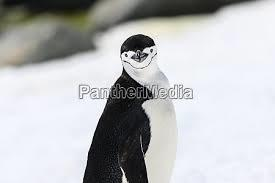chinstrap: (76, 30, 186, 183)
